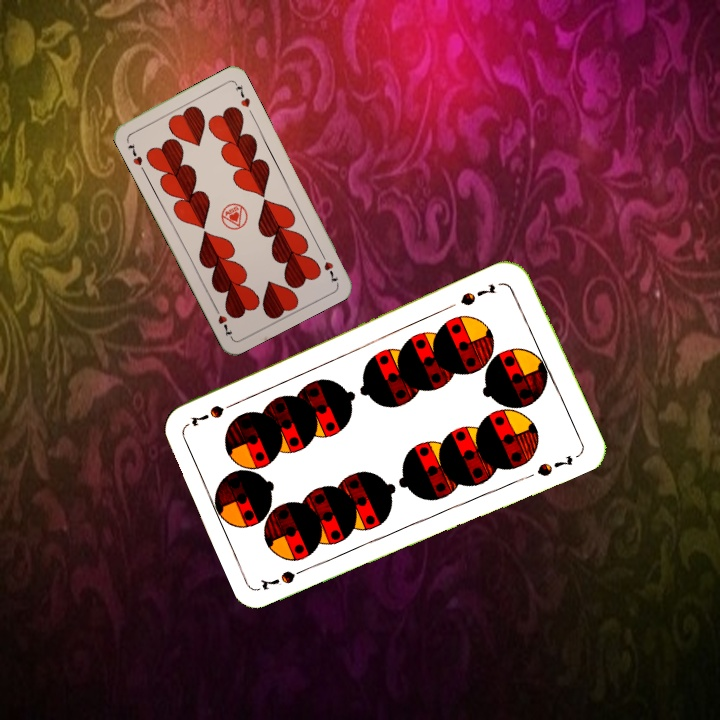H7: (317, 248, 341, 286), (123, 139, 145, 168)
S7: (258, 561, 315, 593), (456, 280, 499, 309)
